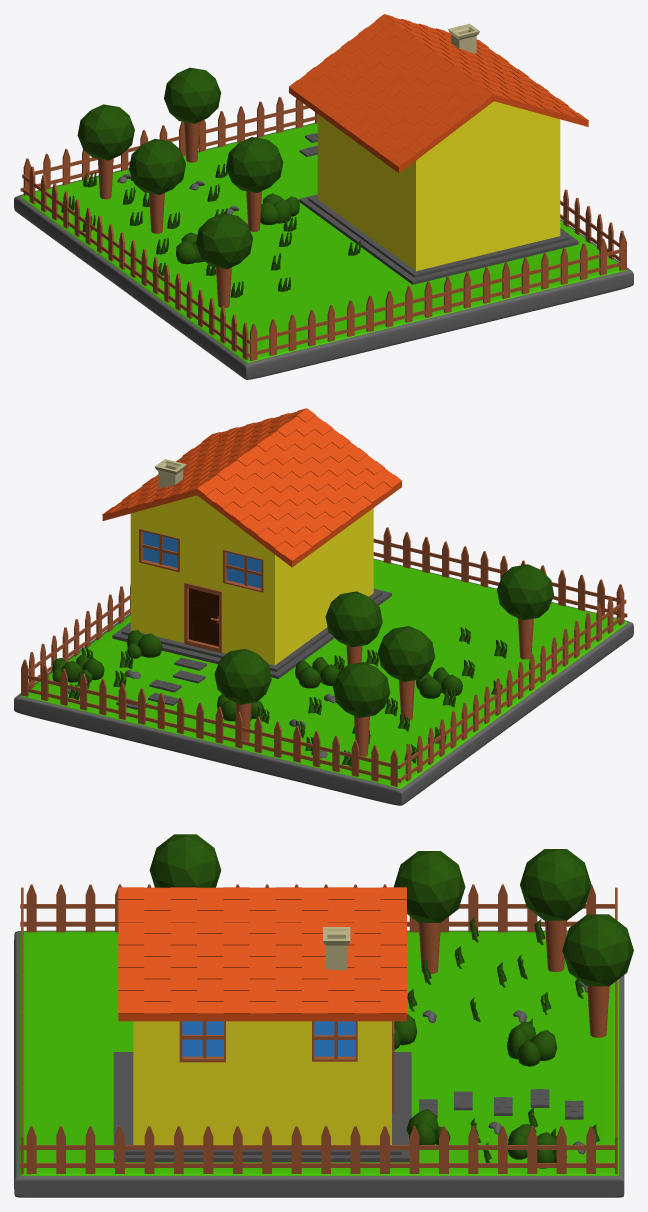
The model's file is mini_home.fbx.
3 renders of one model, top to bottom at view 1: azimuth 30°, elevation 25°; view 2: azimuth 150°, elevation 25°; view 3: azimuth 270°, elevation 25°, orthographic. The views are drawn at different scales.
Parts seen in each view (by area): view 1: Plane.011, Cube, Cube.001, Plane.010, Plane.105, Plane.103, Plane.101, Icosphere.002, Icosphere.004, Icosphere.003, Icosphere, Icosphere.001 (+13 smaller); view 2: Plane.011, Cube, Cube.001, Plane.010, Plane.101, Plane.103, Plane.105, Icosphere, Icosphere.002, Icosphere.004, Icosphere.003, Icosphere.001 (+12 smaller); view 3: Plane.011, Cube.001, Cube, Plane.010, Plane.102, Icosphere.004, Icosphere.003, Icosphere.001, Plane.103, Icosphere.002, Plane.111, Plane.112 (+12 smaller).
Part boxes in pixels (left/top/right/bottom): Plane.011: left=20, top=123, right=627, bottom=362; Cube: left=299, top=101, right=578, bottom=284; Cube.001: left=289, top=14, right=588, bottom=173; Plane.010: left=14, top=122, right=633, bottom=379; Plane.105: left=250, top=238, right=606, bottom=361; Plane.103: left=29, top=166, right=248, bottom=360; Plane.101: left=23, top=96, right=317, bottom=195; Icosphere.002: left=196, top=213, right=252, bottom=269; Icosphere.004: left=164, top=67, right=220, bottom=123; Icosphere.003: left=77, top=104, right=134, bottom=160; Icosphere: left=226, top=137, right=283, bottom=192; Icosphere.001: left=129, top=139, right=185, bottom=194; Plane.011: left=20, top=559, right=627, bottom=788; Cube: left=112, top=495, right=391, bottom=678; Cube.001: left=102, top=408, right=401, bottom=567; Plane.010: left=14, top=558, right=633, bottom=805; Plane.101: left=41, top=664, right=397, bottom=786; Plane.103: left=405, top=588, right=624, bottom=781; Plane.105: left=383, top=527, right=624, bottom=618; Icosphere: left=325, top=591, right=382, bottom=647; Icosphere.002: left=497, top=564, right=553, bottom=620; Icosphere.004: left=214, top=648, right=271, bottom=704; Icosphere.003: left=333, top=662, right=390, bottom=717; Icosphere.001: left=378, top=626, right=434, bottom=681; Plane.011: left=19, top=931, right=619, bottom=1175; Cube.001: left=118, top=887, right=406, bottom=1021; Cube: left=113, top=1021, right=411, bottom=1162; Plane.010: left=14, top=930, right=624, bottom=1197; Plane.102: left=26, top=1126, right=595, bottom=1174; Icosphere.004: left=562, top=914, right=633, bottom=986; Icosphere.003: left=520, top=849, right=591, bottom=920; Icosphere.001: left=393, top=851, right=465, bottom=922; Plane.103: left=26, top=884, right=595, bottom=932; Icosphere.002: left=149, top=834, right=221, bottom=887; Plane.111: left=20, top=1145, right=614, bottom=1149; Plane.112: left=20, top=1163, right=614, bottom=1167.
Size of what is drawn, in the model's own units: 387 by 180 by 408.
